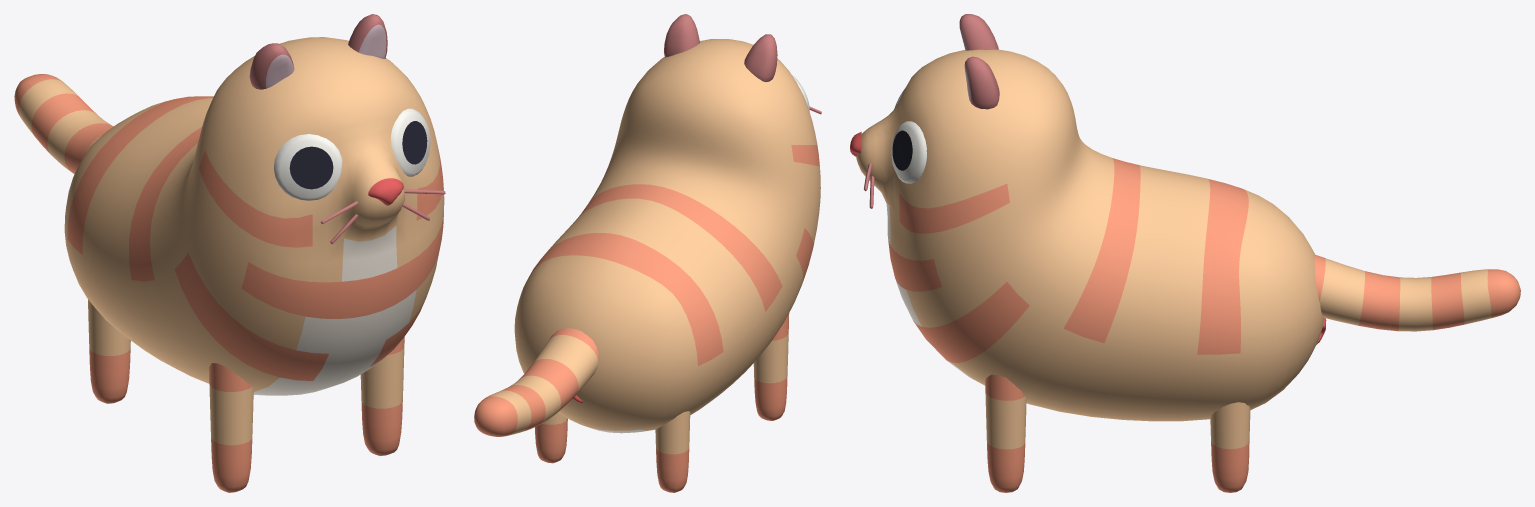
File: Cat_LOD0.obj
3 views of the same model, side by side, from view 1: azimuth 30°, elevation 25°; view 2: azimuth 150°, elevation 25°; view 3: azimuth 270°, elevation 25° (orthographic). The views are drawn at different scales.
Visible parts, largest first — view 1: Cat; view 2: Cat; view 3: Cat.
Part boxes in pixels (<box>): Cat: <box>14,14,445,492</box>; Cat: <box>474,14,821,492</box>; Cat: <box>850,14,1520,492</box>.
Bounding box in the file's own units: 1.17 × 2.08 × 3.
